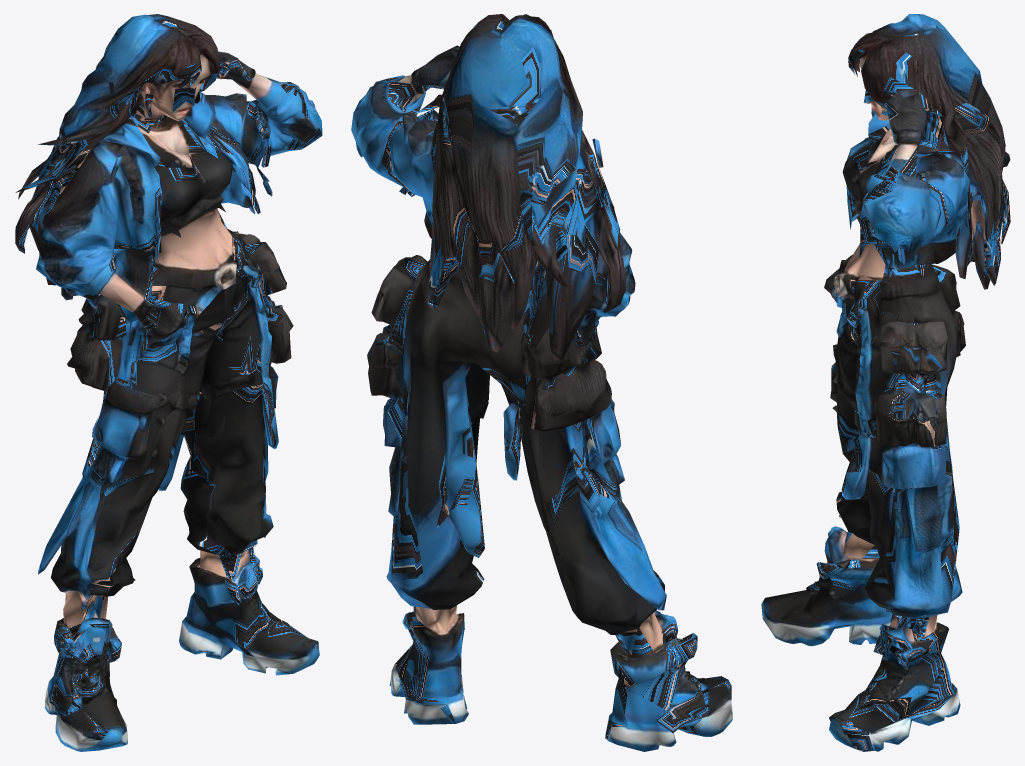
The model's file is azura-lo.glb.
3 views of the same model, side by side, from view 1: azimuth 30°, elevation 25°; view 2: azimuth 150°, elevation 25°; view 3: azimuth 270°, elevation 25° (orthographic). The views are drawn at different scales.
Visible parts, largest first — view 1: model; view 2: model; view 3: model.
Part boxes in pixels (x1=…): model: x1=15, y1=14, x2=322, y2=751; model: x1=351, y1=14, x2=732, y2=751; model: x1=761, y1=14, x2=1010, y2=751.
Bounding box in the file's own units: 0.8935 × 1.89 × 0.6377.
1 material, 1 textured.
